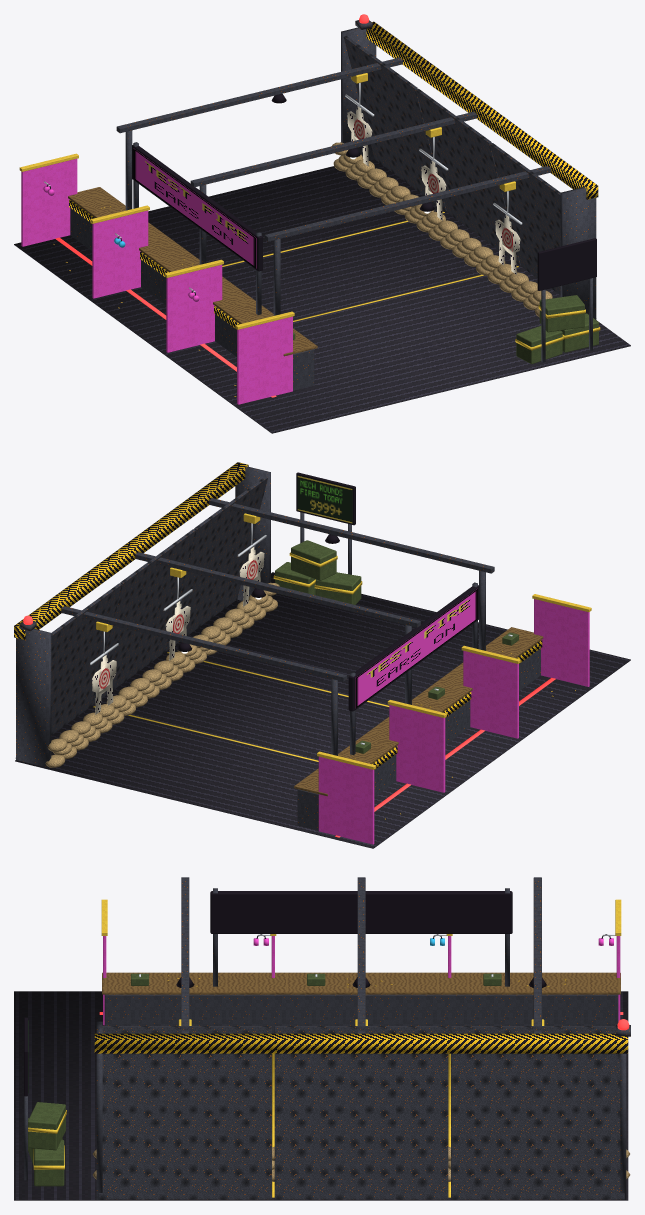
The model's file is x_lobby_range.glb.
3 renders of one model, top to bottom at view 1: azimuth 30°, elevation 25°; view 2: azimuth 150°, elevation 25°; view 3: azimuth 270°, elevation 25°, orthographic. The views are drawn at different scales.
Visible parts, largest first — view 1: range, target_2, target_1, target_0; view 2: range, target_0, target_2, target_1; view 3: range.
Part boxes in pixels (x1,y1,x2,y2): range: [14, 20, 630, 433]; target_2: [493, 202, 522, 274]; target_1: [419, 148, 448, 220]; target_0: [345, 94, 374, 166]; range: [14, 462, 630, 848]; target_0: [90, 643, 118, 714]; target_2: [237, 535, 266, 606]; target_1: [163, 589, 192, 660]; range: [14, 877, 630, 1200].
Size of the model in its own units: 9.83 by 3.84 by 12.25.
Materials: 18 (12 with a texture image).
